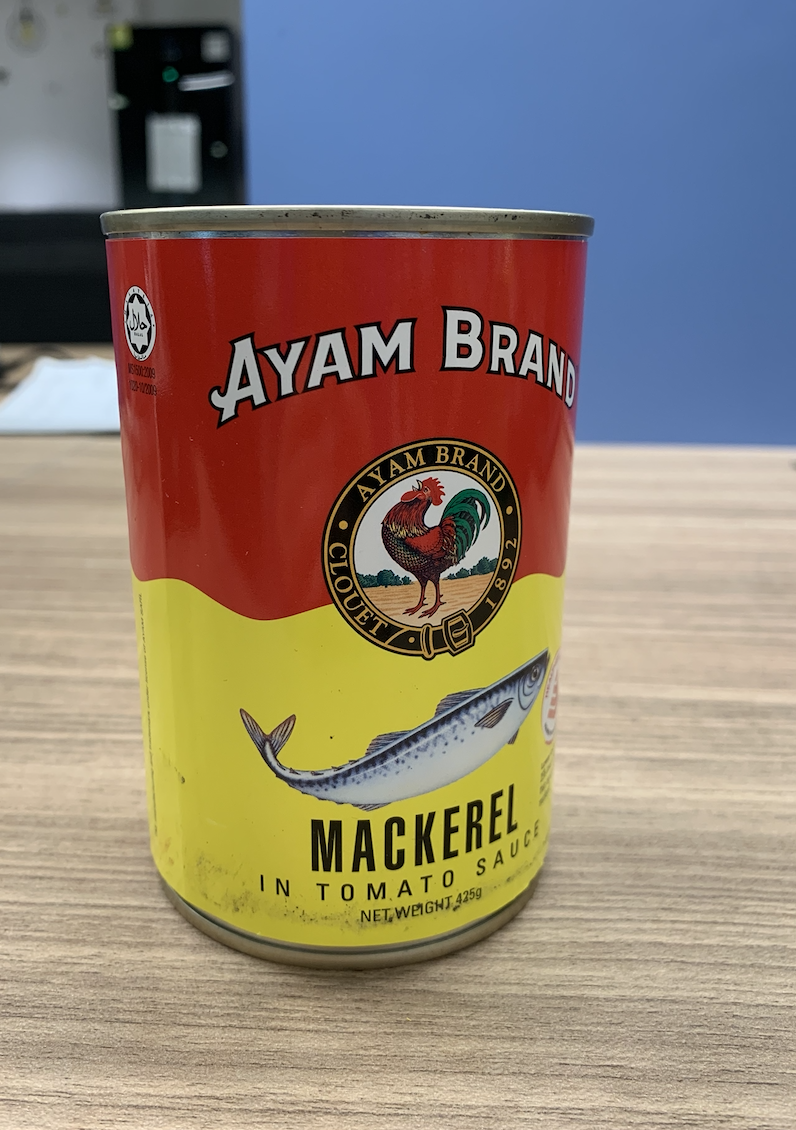sardines_450g: (126, 270, 556, 924)
